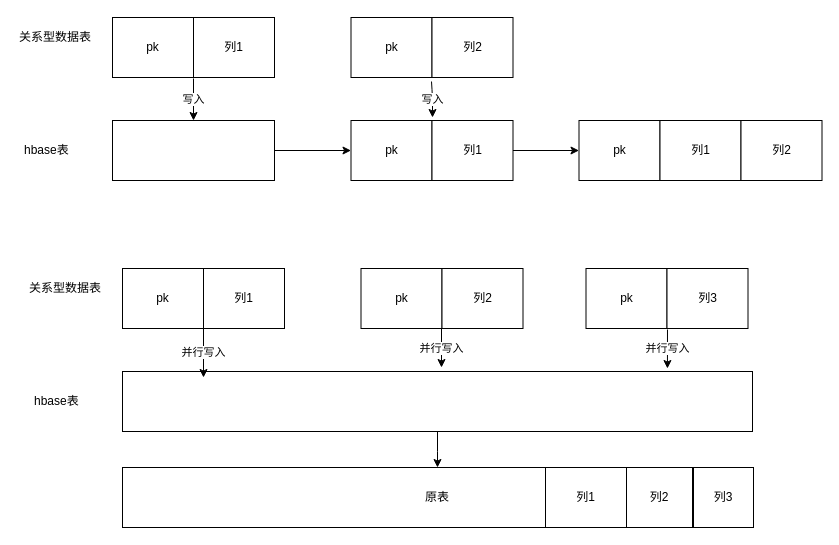
Some shapes in this 839 by 545 pixel diagram are drawn without their labels. Here are the shapes that lost their labels. From the top down, the centre of each, then its label:
At point 193,150: "空表".
At point 437,401: "原表(不包含列1,2,3时)".
